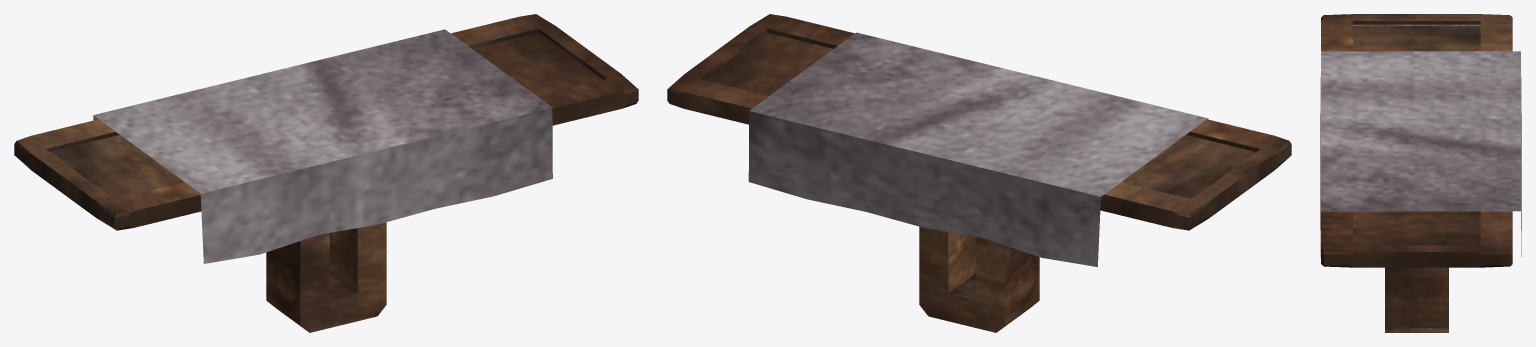
Rendered from mesa_jantar.fbx.
3 views of the same model, side by side, from view 1: azimuth 30°, elevation 25°; view 2: azimuth 150°, elevation 25°; view 3: azimuth 270°, elevation 25° (orthographic). The views are drawn at different scales.
Parts seen in each view (by area): view 1: mesa_jantar; view 2: mesa_jantar; view 3: mesa_jantar.
Boxes of the visible parts, <box> form: mesa_jantar: <box>14,14,638,332</box>; mesa_jantar: <box>667,14,1291,332</box>; mesa_jantar: <box>1320,14,1521,332</box>.
Bounding box in the file's own units: 542 × 197 × 194.
Materials: 1 (1 with a texture image).
